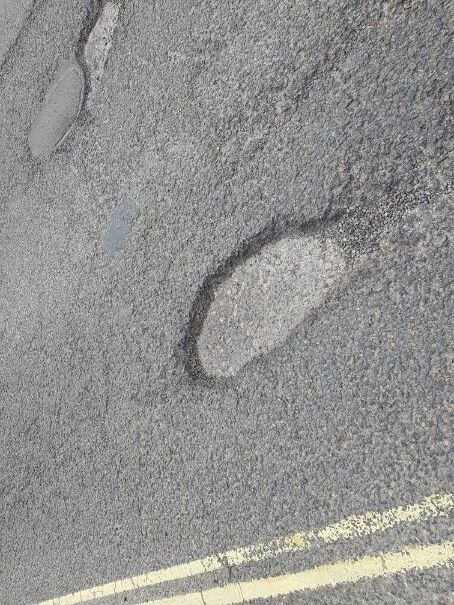pothole: (173, 198, 383, 388), (71, 1, 133, 88)
